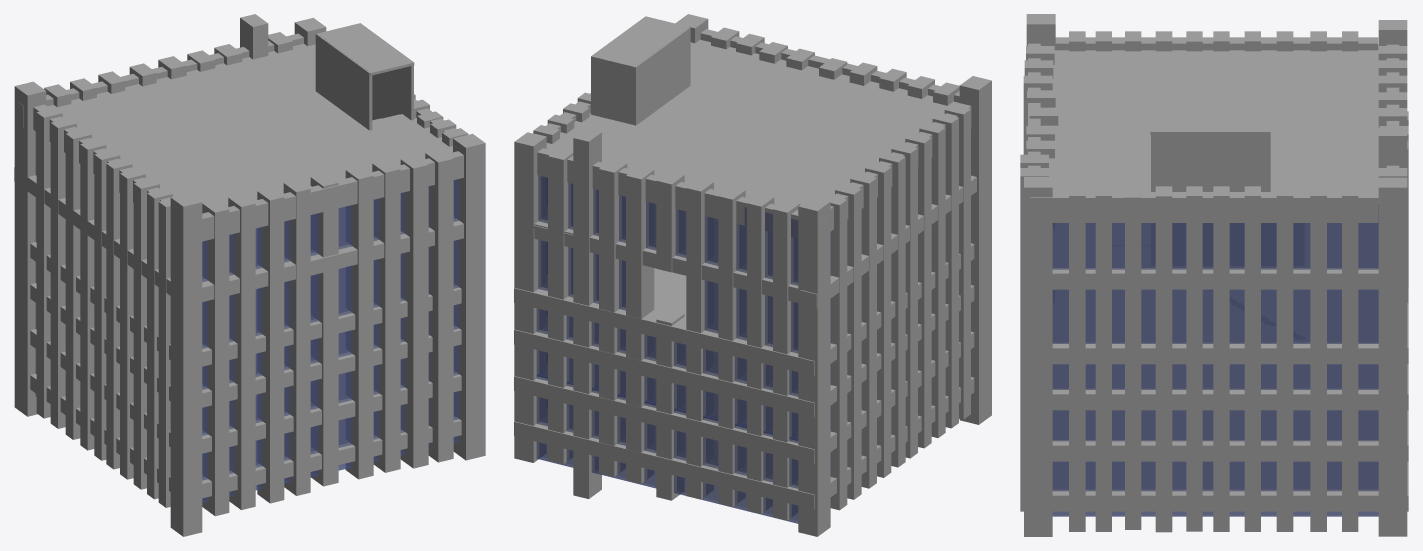
File: new start.fbx
3 renders of one model, left to right at view 1: azimuth 30°, elevation 25°; view 2: azimuth 150°, elevation 25°; view 3: azimuth 270°, elevation 25°, orthographic. The views are drawn at different scales.
Visible parts, largest first — view 1: pCube400, pCube368, pCube437, pCube366, pCube398, pCube396, pCube413, pCube399, pCube397, pCube411, pCube439, pCube402 (+29 smaller); view 2: pCube400, pCube431, pCube365, pCube375, pCube428, pCube437, pCube420, pCube429, pCube426, pCube433, pCube445, pCube425 (+35 smaller); view 3: pCube369, pCube400, pCube365, pCube375, pCube366, pCube420, pCube425, pCube429, pCube426, pCube364, pCube389, pCube415 (+29 smaller).
Part boxes in pixels (bbox=[...]): pCube400: bbox=[47, 54, 391, 196]; pCube368: bbox=[202, 179, 459, 503]; pCube437: bbox=[170, 193, 202, 536]; pCube366: bbox=[453, 133, 485, 460]; pCube398: bbox=[400, 155, 428, 468]; pCube396: bbox=[345, 166, 373, 479]; pCube413: bbox=[257, 187, 284, 503]; pCube399: bbox=[425, 149, 453, 462]; pCube397: bbox=[372, 160, 400, 472]; pCube411: bbox=[202, 200, 229, 516]; pCube439: bbox=[228, 194, 255, 509]; pCube402: bbox=[283, 179, 310, 495]; pCube400: bbox=[602, 69, 930, 205]; pCube431: bbox=[798, 197, 830, 536]; pCube365: bbox=[514, 243, 974, 375]; pCube375: bbox=[514, 132, 546, 462]; pCube428: bbox=[573, 128, 601, 498]; pCube437: bbox=[959, 76, 991, 424]; pCube420: bbox=[690, 39, 959, 123]; pCube429: bbox=[514, 377, 974, 509]; pCube426: bbox=[514, 285, 974, 417]; pCube433: bbox=[626, 166, 654, 483]; pCube445: bbox=[686, 178, 713, 499]; pCube425: bbox=[514, 331, 974, 463]; pCube369: bbox=[1052, 203, 1378, 516]; pCube400: bbox=[1104, 46, 1378, 173]; pCube365: bbox=[1052, 288, 1408, 364]; pCube375: bbox=[1378, 177, 1407, 536]; pCube366: bbox=[1024, 177, 1052, 536]; pCube420: bbox=[1042, 50, 1152, 191]; pCube425: bbox=[1052, 410, 1408, 461]; pCube429: bbox=[1052, 461, 1408, 511]; pCube426: bbox=[1052, 364, 1408, 410]; pCube364: bbox=[1151, 135, 1270, 191]; pCube389: bbox=[1276, 185, 1293, 531]; pCube415: bbox=[1155, 186, 1172, 532].
Bounding box in the file's own units: 1.13 × 1.34 × 1.12.
